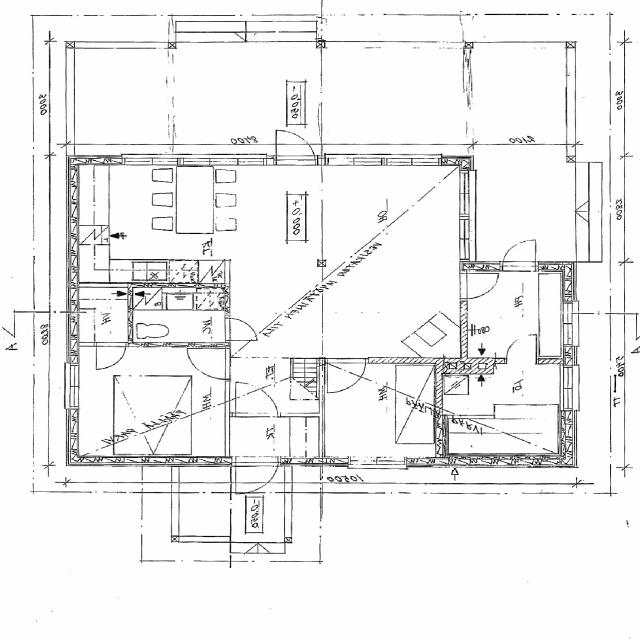door: (235, 456, 279, 500), (276, 125, 315, 166), (236, 381, 278, 417), (328, 358, 367, 393), (186, 350, 230, 380), (502, 236, 536, 272), (460, 274, 500, 299), (506, 335, 536, 364), (96, 342, 126, 370), (225, 318, 259, 341)
